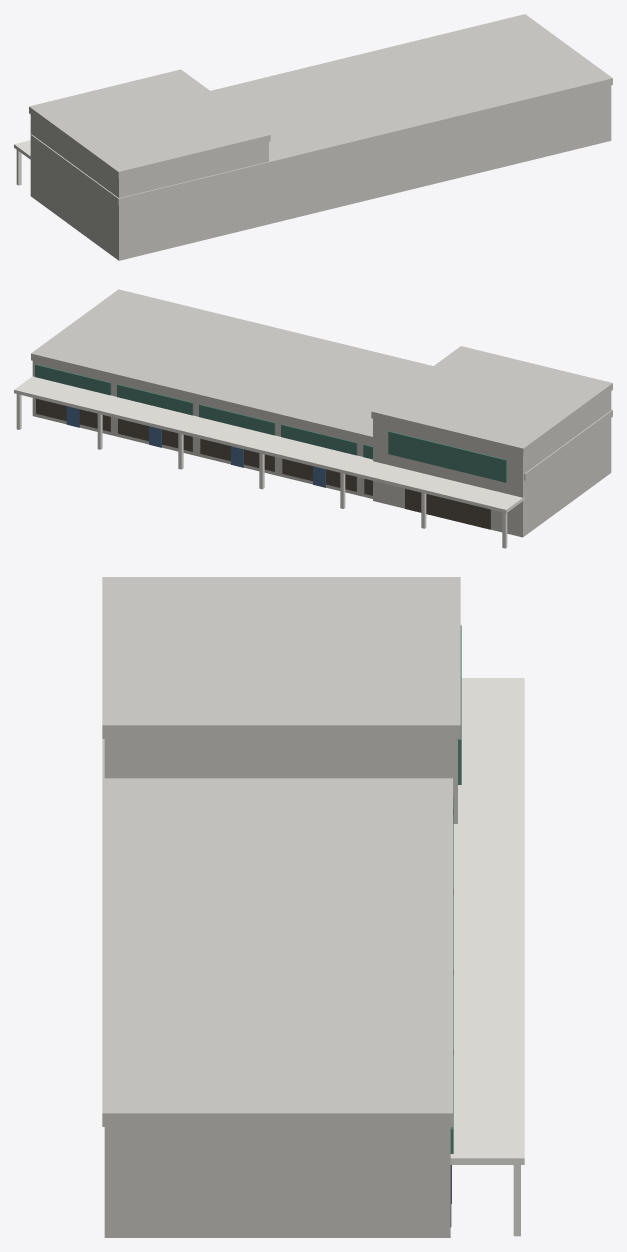
The model's file is strip_mall_b.glb.
3 renders of one model, top to bottom at view 1: azimuth 30°, elevation 25°; view 2: azimuth 150°, elevation 25°; view 3: azimuth 270°, elevation 25°, orthographic. The views are drawn at different scales.
Parts seen in each view (by area): view 1: strip_mall_b; view 2: strip_mall_b; view 3: strip_mall_b.
Boxes of the visible parts, box(x1,y1,x2,y2) form: strip_mall_b: box(14, 14, 612, 260); strip_mall_b: box(14, 289, 612, 548); strip_mall_b: box(102, 577, 524, 1237).
Bounding box in the file's own units: 46.2 × 8 × 17.1.
